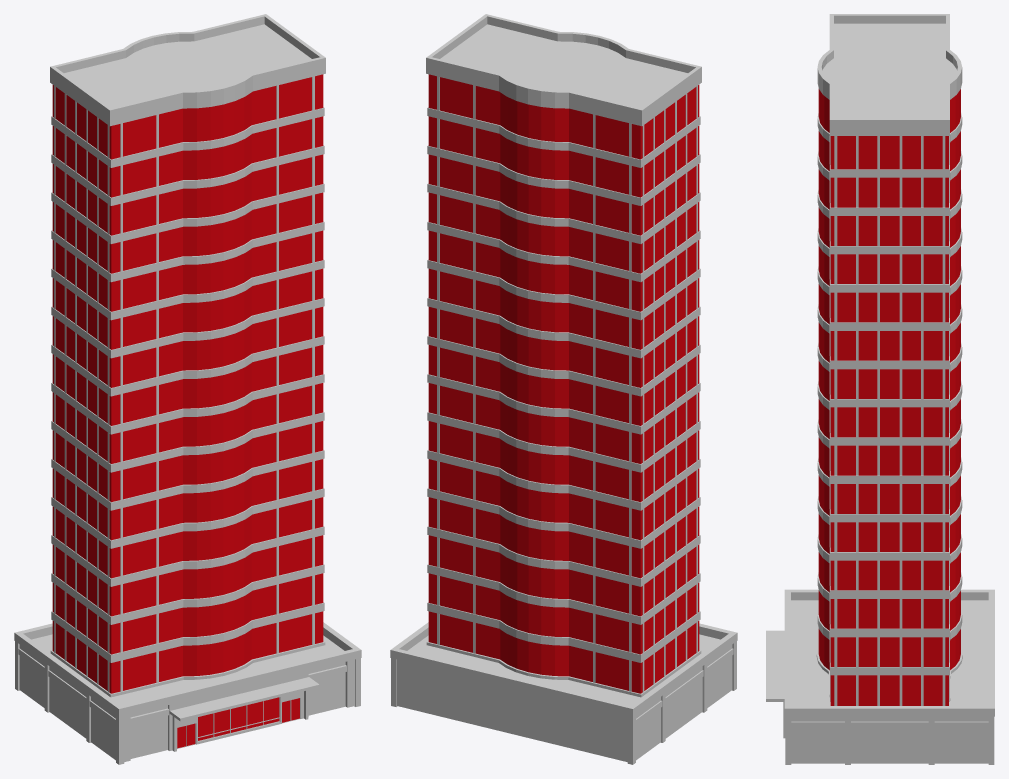
The model's file is SM_skyscraper_02.glb.
The picture shows the model from 3 angles, left to right: view 1: azimuth 30°, elevation 25°; view 2: azimuth 150°, elevation 25°; view 3: azimuth 270°, elevation 25°; orthographic projection.
Parts seen in each view (by area): view 1: skyscraper_02; view 2: skyscraper_02; view 3: skyscraper_02.
Part boxes in pixels (left/top/right/bottom): skyscraper_02: left=14, top=14, right=361, bottom=764; skyscraper_02: left=390, top=14, right=737, bottom=764; skyscraper_02: left=766, top=14, right=994, bottom=764.
Size of the model in its own units: 32 by 80.07 by 26.
